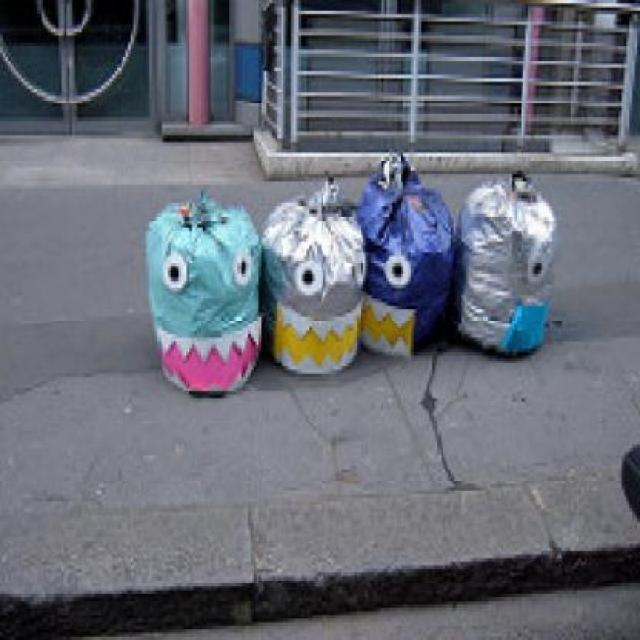garbage: (363, 157, 556, 352), (155, 195, 358, 372)
